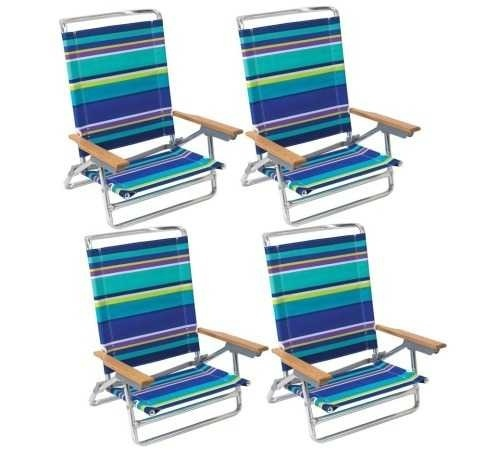obstacle: (60, 10, 241, 227), (85, 227, 267, 442), (237, 7, 418, 223), (263, 224, 444, 438)
